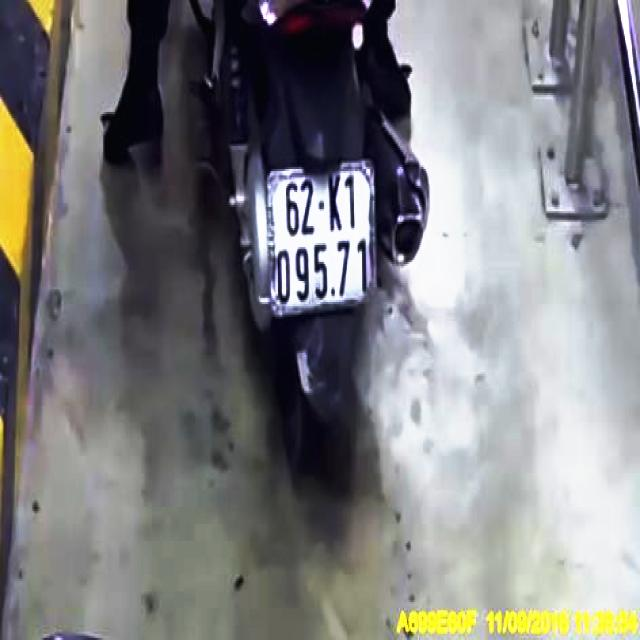license_plate: (271, 168, 373, 311)
